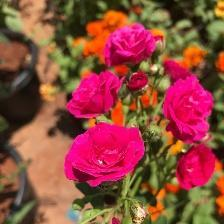rose: (63, 123, 147, 188), (167, 76, 211, 142), (69, 66, 121, 116), (106, 23, 157, 67), (176, 146, 218, 189)
